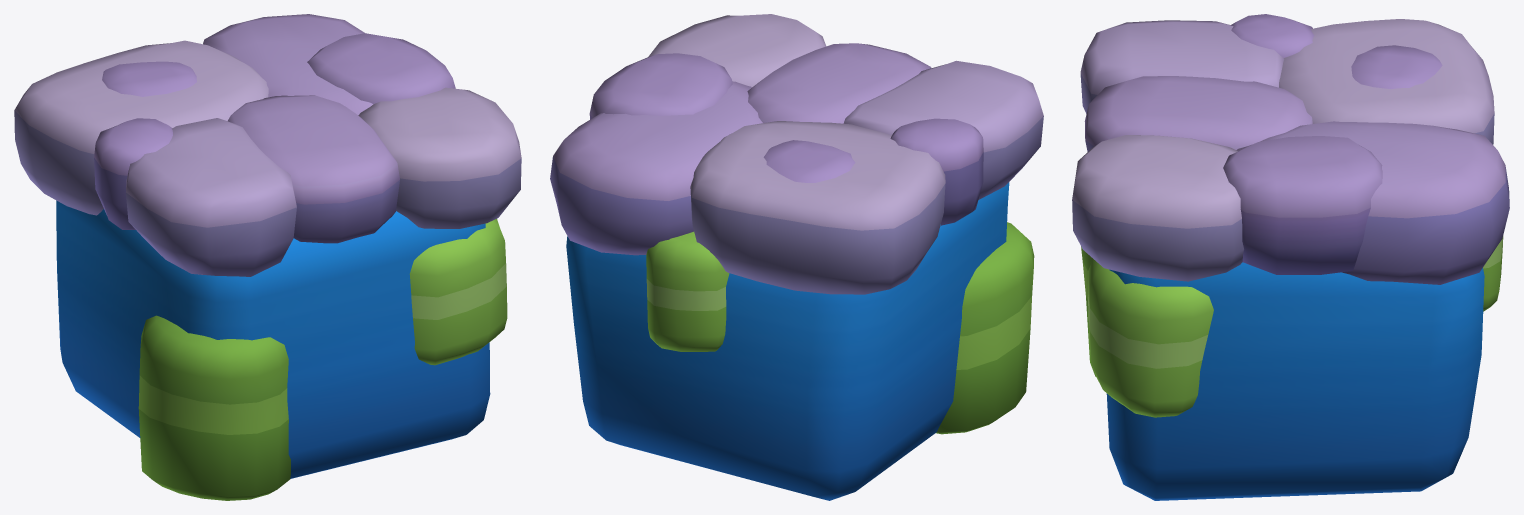
File: Platform_C_02.glb
The picture shows the model from 3 angles, left to right: view 1: azimuth 30°, elevation 25°; view 2: azimuth 150°, elevation 25°; view 3: azimuth 270°, elevation 25°; orthographic projection. The views are drawn at different scales.
Parts seen in each view (by area): view 1: Platform_C_02; view 2: Platform_C_02; view 3: Platform_C_02.
Part boxes in pixels (x1,y1,x2,y2): Platform_C_02: [14, 14, 521, 500]; Platform_C_02: [550, 14, 1043, 500]; Platform_C_02: [1072, 14, 1509, 500].
Size of the model in its own units: 7.05 by 6 by 6.93.
Materials: 1 (1 with a texture image).
